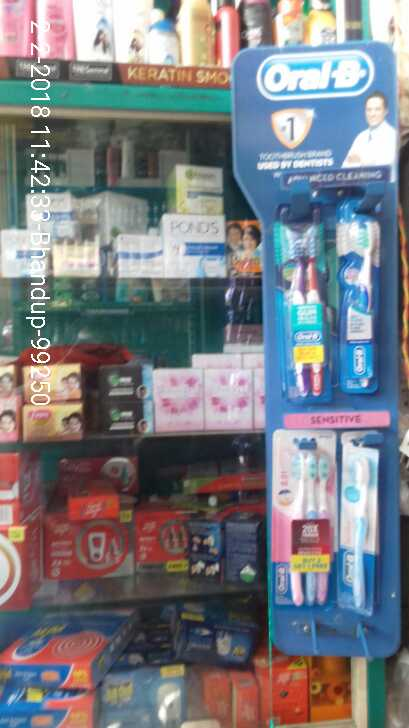oralb: (270, 425, 331, 604), (277, 200, 328, 408), (337, 214, 387, 396), (340, 430, 374, 603)
